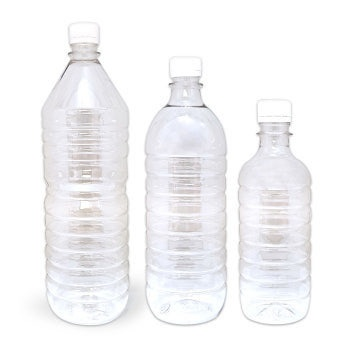plastic: (40, 21, 131, 323)
